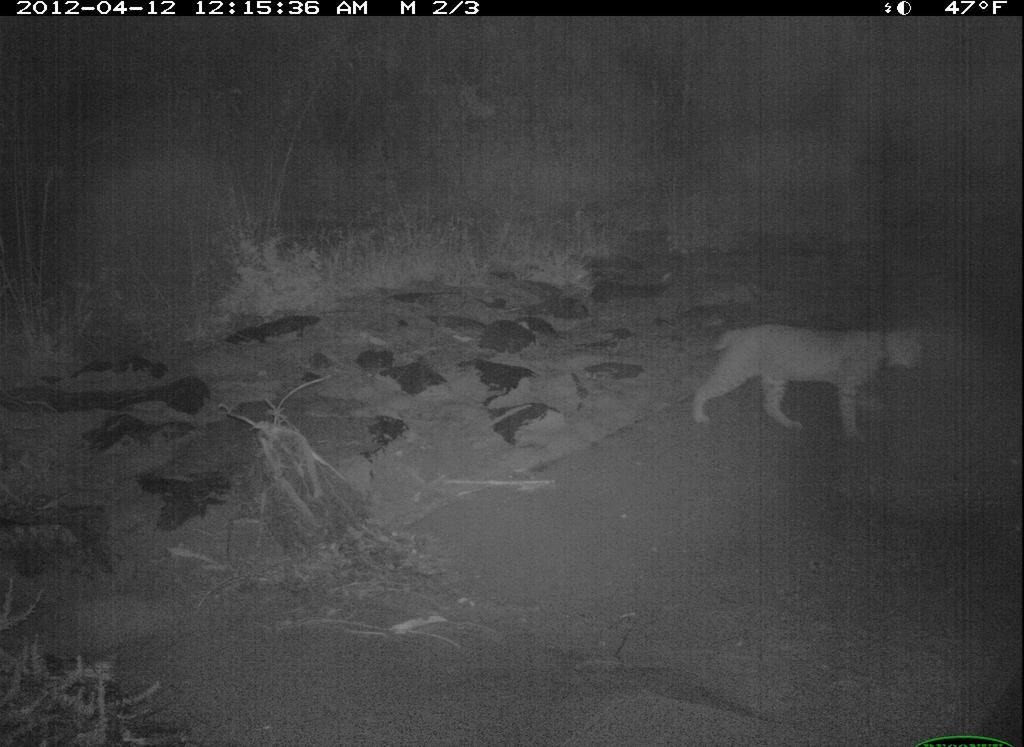bobcat: (685, 294, 953, 451)
